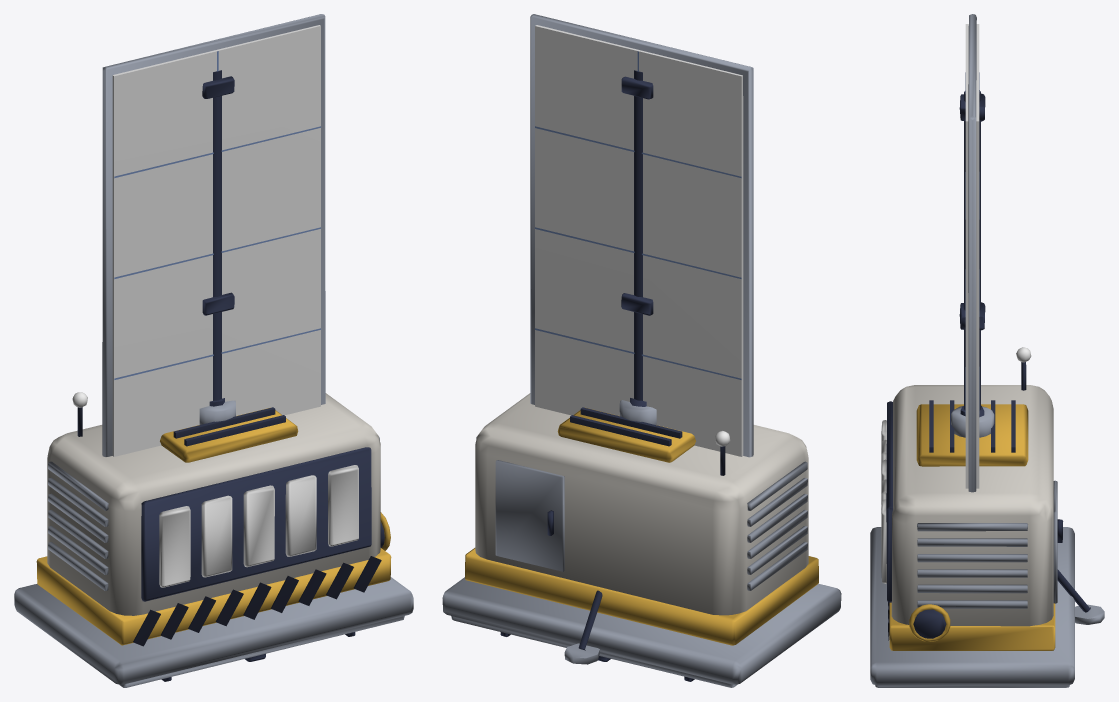
Rendered from power_low.glb.
3 renders of one model, left to right at view 1: azimuth 30°, elevation 25°; view 2: azimuth 150°, elevation 25°; view 3: azimuth 270°, elevation 25°, orthographic. The views are drawn at different scales.
Visible parts, largest first — view 1: mast_head, battery, panel_head, mast_base; view 2: mast_head, battery, mast_base, panel_head; view 3: battery, mast_head, mast_base, panel_head.
Boxes of the visible parts, left/top/right/bottom form: mast_head: left=102, top=14, right=325, bottom=456; battery: left=14, top=392, right=413, bottom=684; panel_head: left=119, top=616, right=404, bottom=687; mast_base: left=199, top=398, right=235, bottom=424; mast_head: left=530, top=14, right=753, bottom=457; battery: left=442, top=393, right=841, bottom=684; mast_base: left=564, top=398, right=656, bottom=664; panel_head: left=451, top=616, right=737, bottom=687; battery: left=870, top=347, right=1074, bottom=685; mast_head: left=959, top=14, right=985, bottom=492; mast_base: left=951, top=405, right=1104, bottom=624; panel_head: left=875, top=685, right=1069, bottom=687.
Size of the model in its own units: 3.9 by 7.45 by 2.75.
